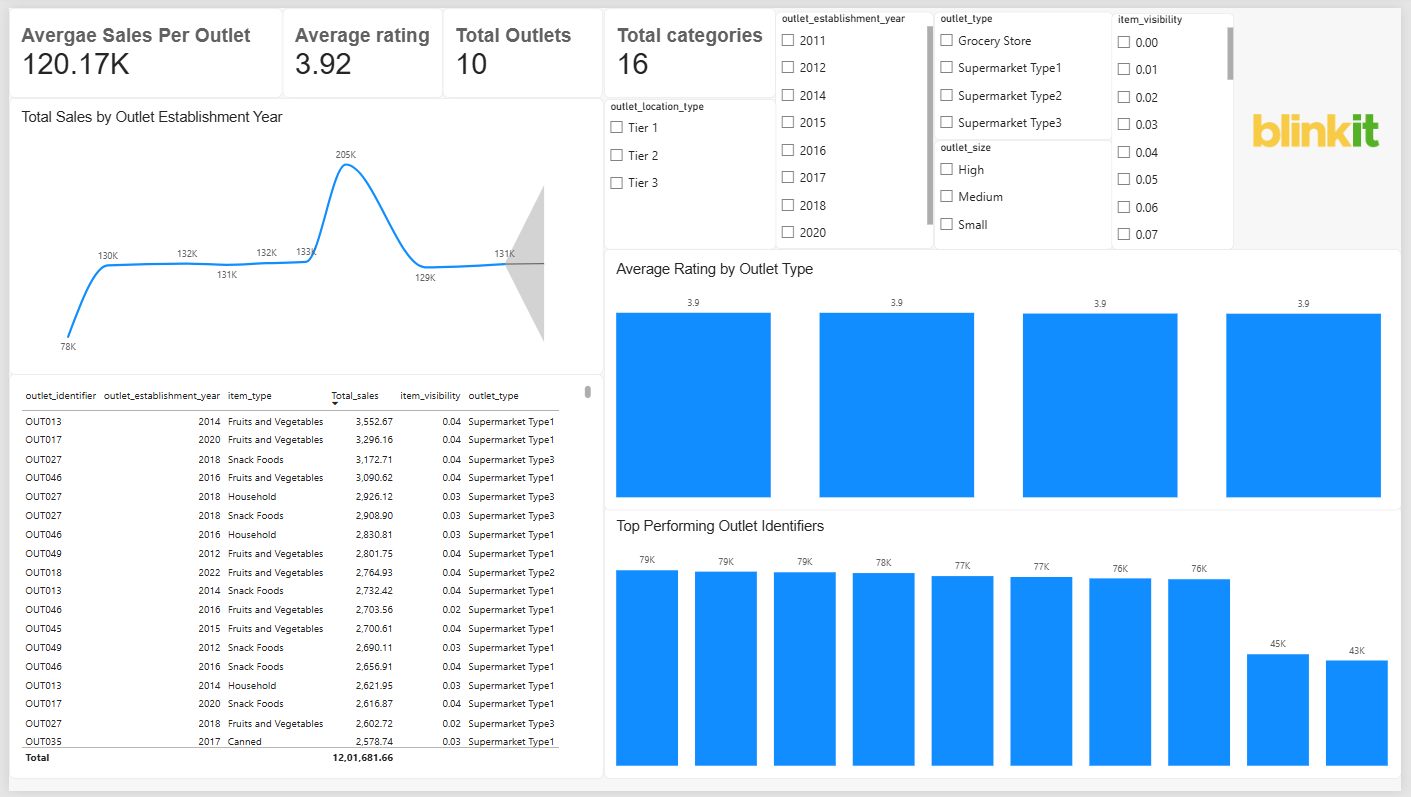

This screenshot's page, from the dashboard's own definition file:
{"tool":"powerbi","page":{"name":"Outlet Performance","canvas":[1920,1080],"ordinal":2},"visuals":[{"type":"cardVisual","fields":{"Data":["Blinkit-Grocery-Data-Cleaned.Avg_sales_per_outlet"]},"box":[0,0,377.1,124.3],"z":0},{"type":"cardVisual","fields":{"Data":["Blinkit-Grocery-Data-Cleaned.Avg_rating"]},"box":[377.1,0,221.4,124.3],"z":1000},{"type":"cardVisual","fields":{"Data":["Blinkit-Grocery-Data-Cleaned.Total_outlets"]},"box":[598.6,0,221.4,124.3],"z":2000},{"type":"cardVisual","fields":{"Data":["Blinkit-Grocery-Data-Cleaned.Total_Categories"]},"box":[820,0,237.1,124.3],"z":3000},{"type":"slicer","fields":{"Values":["Blinkit-Grocery-Data-Cleaned.outlet_establishment_year"]},"box":[1057.3,5.5,218.2,327.3],"z":4000},{"type":"slicer","fields":{"Values":["Blinkit-Grocery-Data-Cleaned.outlet_location_type"]},"box":[820,125.5,237.3,207.3],"z":5000},{"type":"slicer","fields":{"Values":["Blinkit-Grocery-Data-Cleaned.outlet_size"]},"box":[1275.7,182.9,247.1,150],"z":6000},{"type":"columnChart","title":"Top Performing Outlet Identifiers","fields":{"Category":["Blinkit-Grocery-Data-Cleaned.outlet_identifier"],"Y":["Blinkit-Grocery-Data-Cleaned.Total_sales"]},"box":[820,687.5,1100,375],"z":7000},{"type":"columnChart","title":"Average Rating by Outlet Type","fields":{"Category":["Blinkit-Grocery-Data-Cleaned.outlet_type"],"Y":["Blinkit-Grocery-Data-Cleaned.Avg_rating"]},"box":[820,332.9,1100,360],"z":8000},{"type":"lineChart","title":"Total Sales by Outlet Establishment Year","fields":{"Category":["Blinkit-Grocery-Data-Cleaned.outlet_establishment_year"],"Y":["Blinkit-Grocery-Data-Cleaned.Total_sales"]},"box":[0,123.8,820,381.2],"z":9000},{"type":"tableEx","fields":{"Values":["Blinkit-Grocery-Data-Cleaned.outlet_identifier","Blinkit-Grocery-Data-Cleaned.outlet_establishment_year","Blinkit-Grocery-Data-Cleaned.item_type","Blinkit-Grocery-Data-Cleaned.Total_sales","Blinkit-Grocery-Data-Cleaned.item_visibility","Blinkit-Grocery-Data-Cleaned.outlet_type"]},"box":[0,505,820,557.5],"z":10000},{"type":"slicer","fields":{"Values":["Blinkit-Grocery-Data-Cleaned.outlet_type"]},"box":[1275.7,5.7,247.1,177.1],"z":11000},{"type":"image","box":[1707.5,6.5,192.6,324.6],"z":12000},{"type":"slicer","fields":{"Values":["Blinkit-Grocery-Data-Cleaned.item_visibility"]},"box":[1521.4,6.5,168.8,326.8],"z":13000}]}

Visuals, with their boxes in screenshot pixels (x1, y1, x2, y2), scaled from the page's 1920x1080 canvas onto the 1411x797 screenshot:
cardVisual - Blinkit-Grocery-Data-Cleaned.Avg_sales_per_outlet: Rect(0, 0, 277, 92)
cardVisual - Blinkit-Grocery-Data-Cleaned.Avg_rating: Rect(277, 0, 440, 92)
cardVisual - Blinkit-Grocery-Data-Cleaned.Total_outlets: Rect(440, 0, 603, 92)
cardVisual - Blinkit-Grocery-Data-Cleaned.Total_Categories: Rect(603, 0, 777, 92)
slicer - Blinkit-Grocery-Data-Cleaned.outlet_establishment_year: Rect(777, 4, 937, 246)
slicer - Blinkit-Grocery-Data-Cleaned.outlet_location_type: Rect(603, 93, 777, 246)
slicer - Blinkit-Grocery-Data-Cleaned.outlet_size: Rect(938, 135, 1119, 246)
"Top Performing Outlet Identifiers" columnChart: Rect(603, 507, 1410, 784)
"Average Rating by Outlet Type" columnChart: Rect(603, 246, 1410, 511)
"Total Sales by Outlet Establishment Year" lineChart: Rect(0, 91, 603, 373)
tableEx - Blinkit-Grocery-Data-Cleaned.outlet_identifier x Blinkit-Grocery-Data-Cleaned.outlet_establishment_year: Rect(0, 373, 603, 784)
slicer - Blinkit-Grocery-Data-Cleaned.outlet_type: Rect(938, 4, 1119, 135)
image: Rect(1255, 5, 1396, 244)
slicer - Blinkit-Grocery-Data-Cleaned.item_visibility: Rect(1118, 5, 1242, 246)
